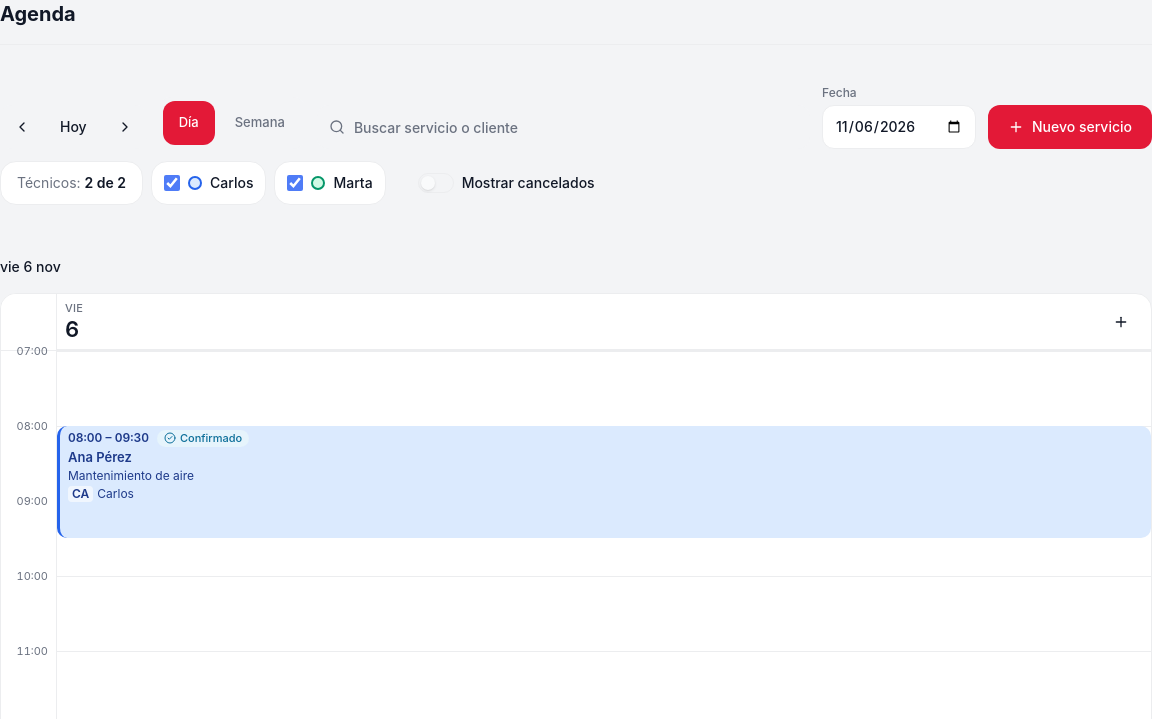
Test: AgendaPage: comandos y actualización de la agenda (UI-R4) › cancela con confirmación: la cita se muestra cancelada sin recargar
Click the button "Ana Pérez" at (108, 438), box 57,426 -> 1151,538
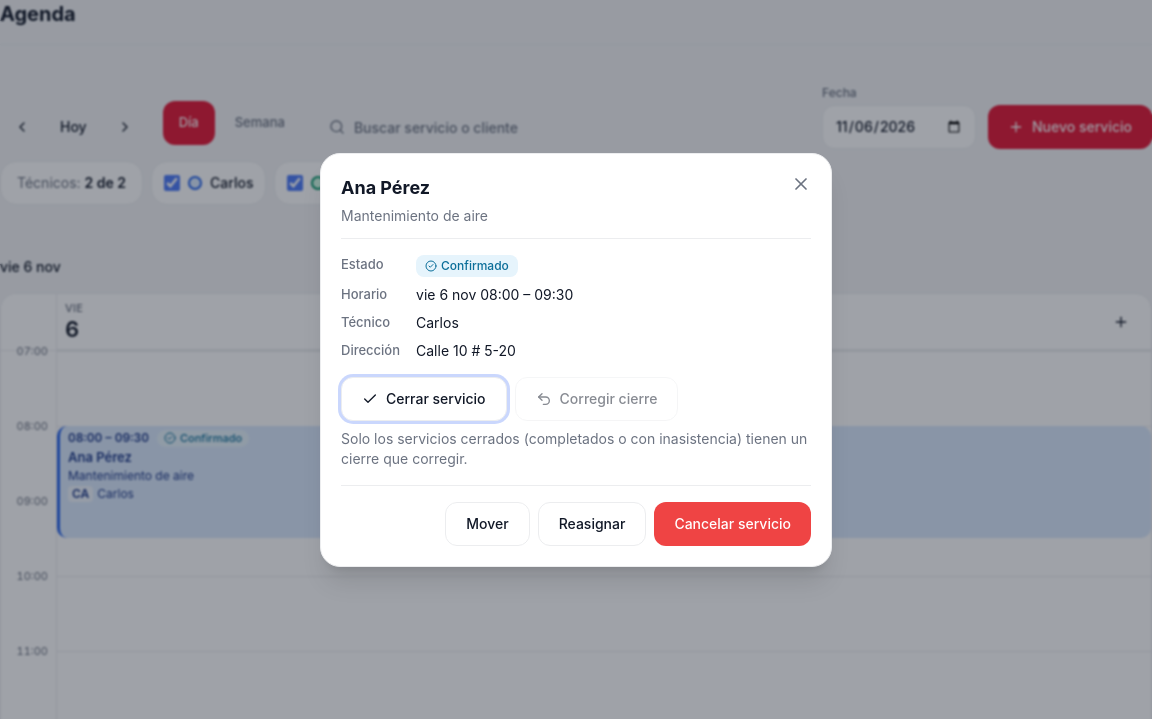
Click the button "Cancelar servicio" at (733, 524), box 654,502 -> 811,546
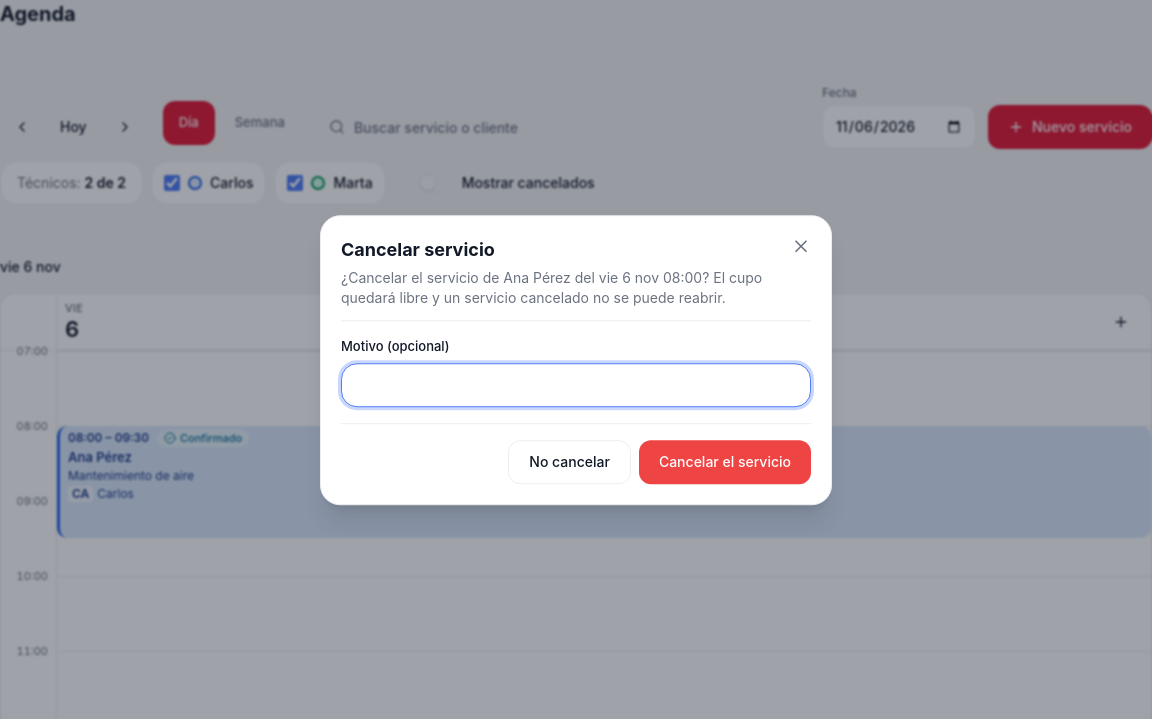
Type "Viaje" into the field labelled "Motivo (opcional)" at (576, 385), box 341,363 -> 811,407
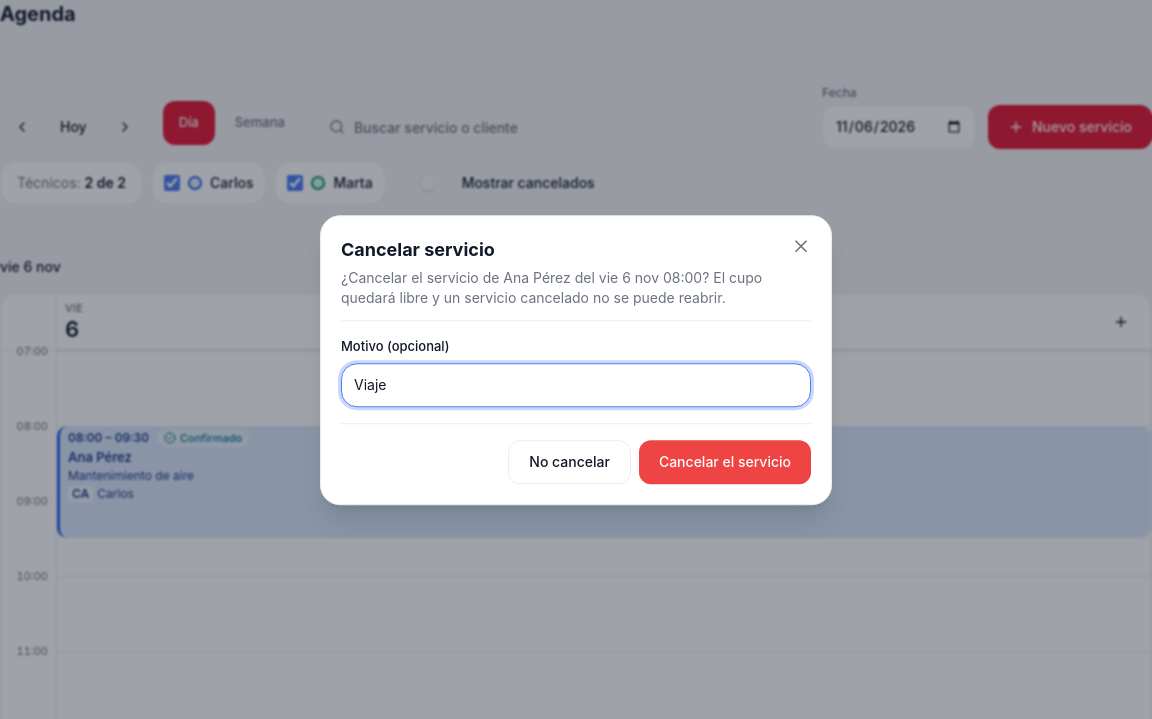
Click the button "Cancelar el servicio" at (725, 462), box 639,440 -> 811,484
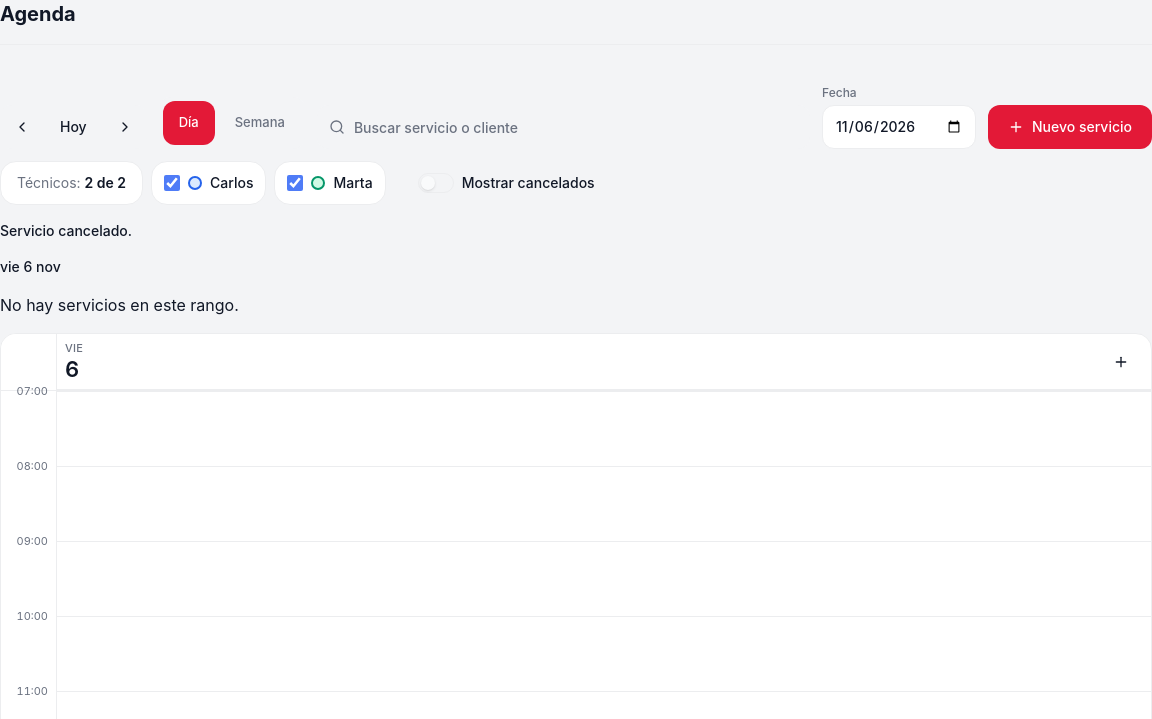
Expected: the button "Ana Pérez" is gone
Expected: the dialog is gone
Click the switch labelled "Mostrar cancelados" at (506, 183), box 410,161 -> 603,205
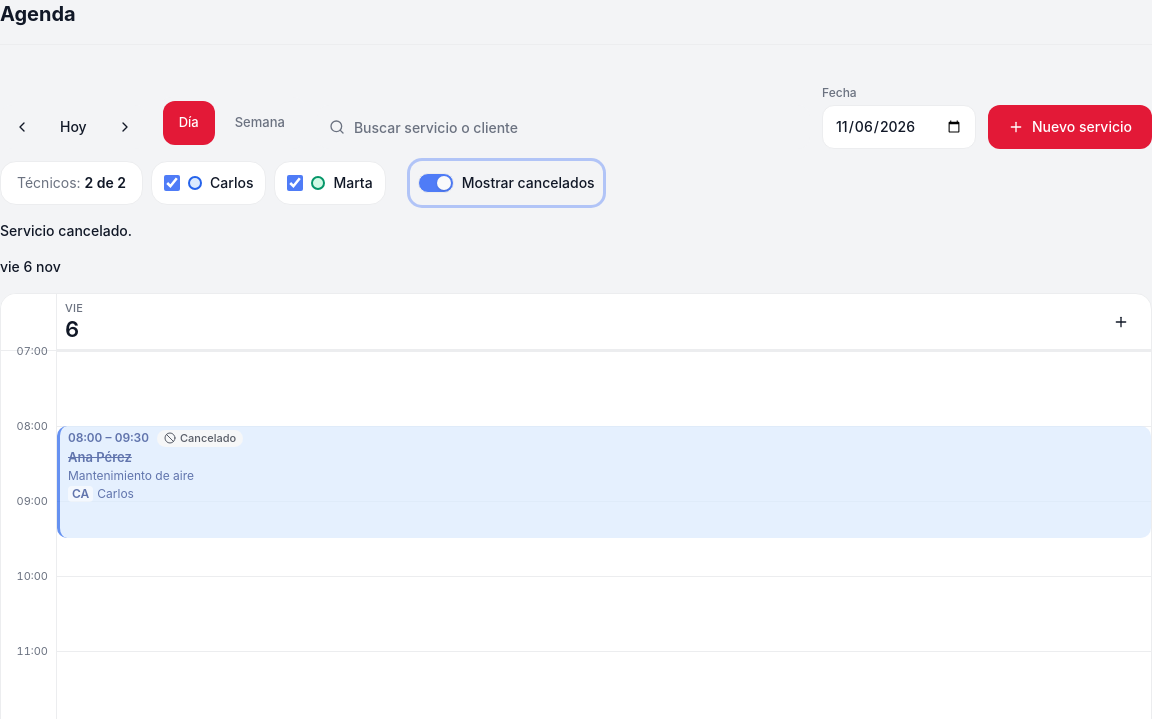
Expected: the button with aria-label "08:00 a 09:30, Ana Pérez, Mantenimiento de aire, técnico Car" is shown, 57,426 -> 1151,538
